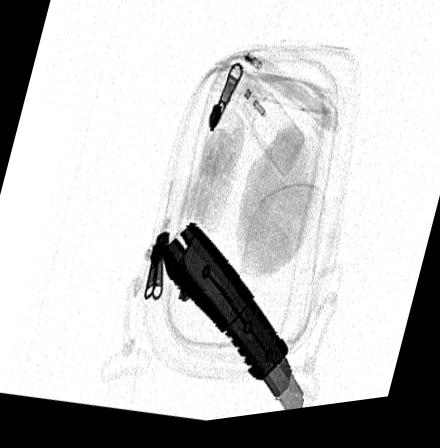Knife: (159, 227, 305, 418)
